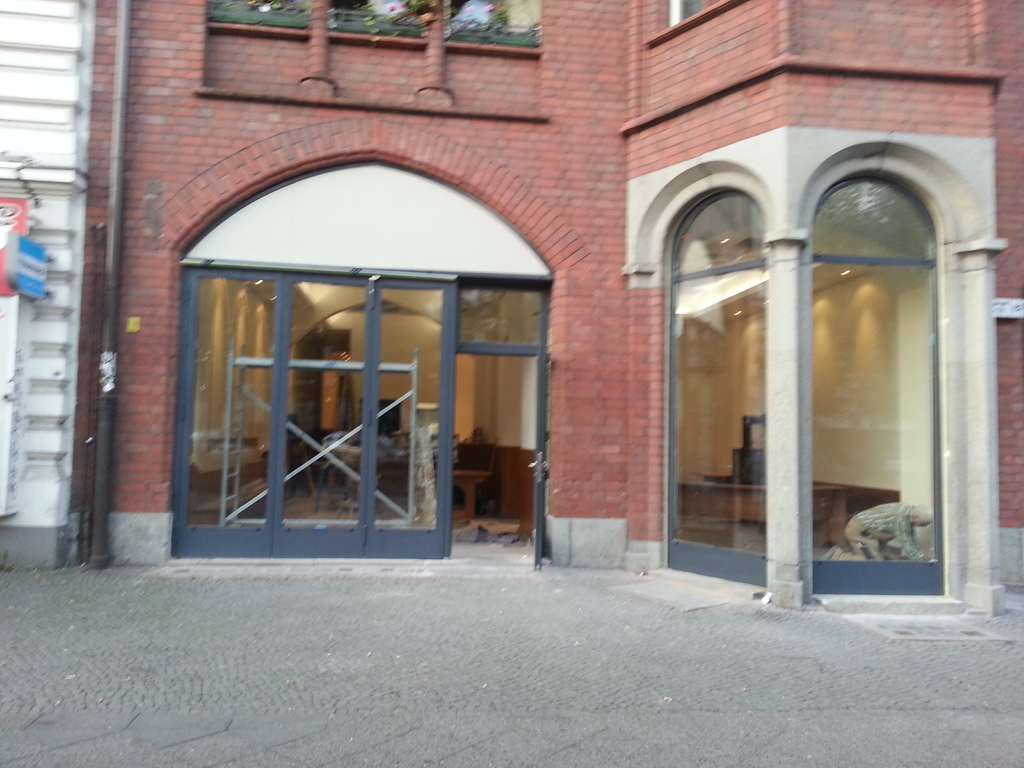door: (529, 335, 548, 566)
handle: (526, 450, 548, 486)
